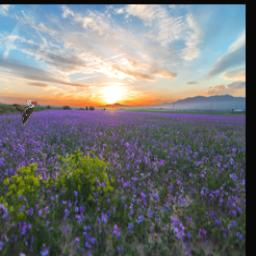Woodpecker: (19, 100, 39, 126)
